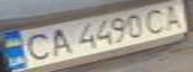0: (124, 11, 148, 38)
4: (72, 19, 96, 51), (93, 16, 115, 47)
9: (109, 14, 130, 44)
A: (42, 25, 75, 57), (157, 2, 190, 30)
C: (15, 29, 57, 62), (139, 5, 172, 35)
